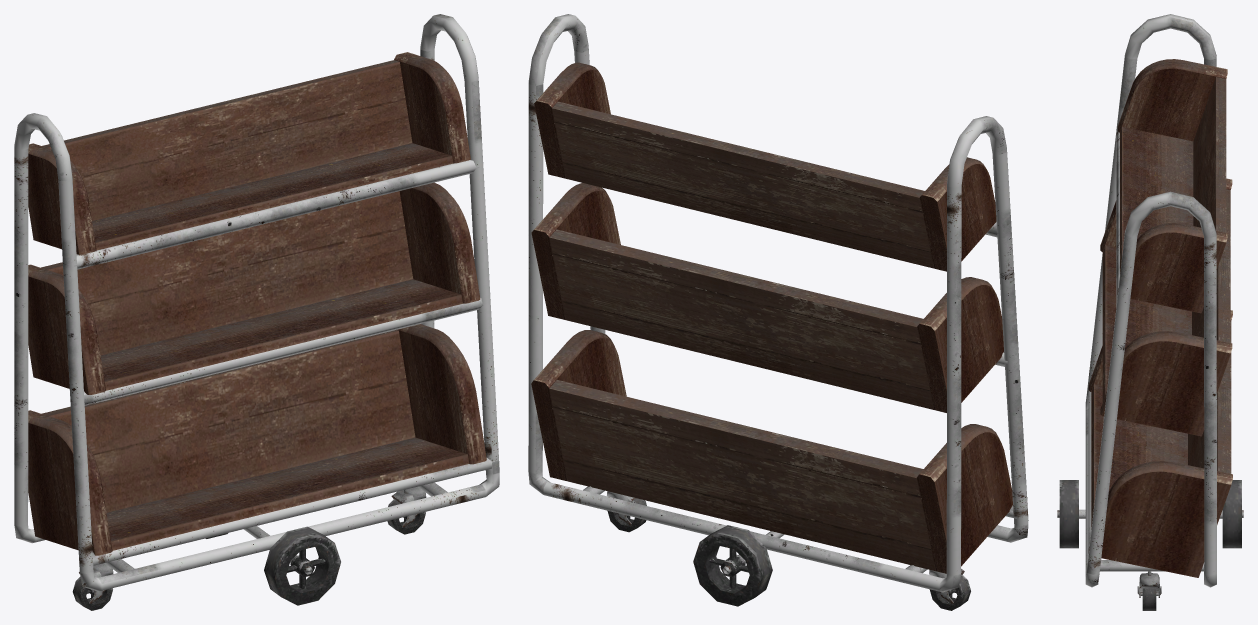
File: 171_librarytrolley01a.fbx
3 renders of one model, left to right at view 1: azimuth 30°, elevation 25°; view 2: azimuth 150°, elevation 25°; view 3: azimuth 270°, elevation 25°, orthographic. The views are drawn at different scales.
Parts seen in each view (by area): view 1: LOD_1_Group_0_Sub_1__sm30_171_LibraryTrolley01A_A_Mat; view 2: LOD_1_Group_0_Sub_1__sm30_171_LibraryTrolley01A_A_Mat; view 3: LOD_1_Group_0_Sub_1__sm30_171_LibraryTrolley01A_A_Mat.
Part boxes in pixels (x1,y1,x2,y2): LOD_1_Group_0_Sub_1__sm30_171_LibraryTrolley01A_A_Mat: [14, 14, 499, 610]; LOD_1_Group_0_Sub_1__sm30_171_LibraryTrolley01A_A_Mat: [528, 14, 1028, 610]; LOD_1_Group_0_Sub_1__sm30_171_LibraryTrolley01A_A_Mat: [1057, 14, 1243, 610].
Bounding box in the file's own units: 1.49 × 1.66 × 0.6357.
